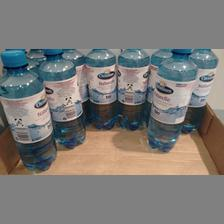Wasser: (0, 48, 56, 172), (144, 48, 198, 152), (38, 48, 86, 148), (116, 48, 148, 128), (85, 48, 115, 128)
